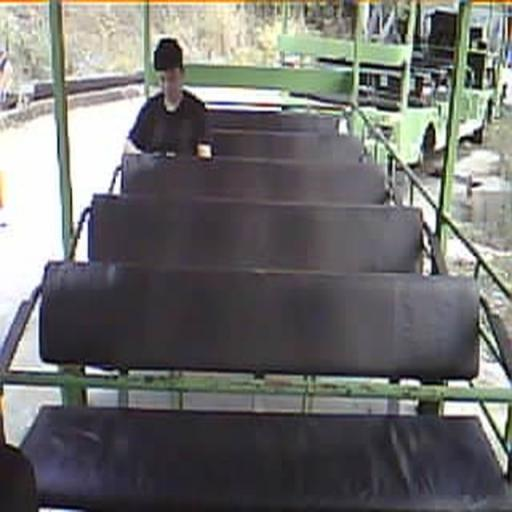persona: (124, 36, 212, 161)
